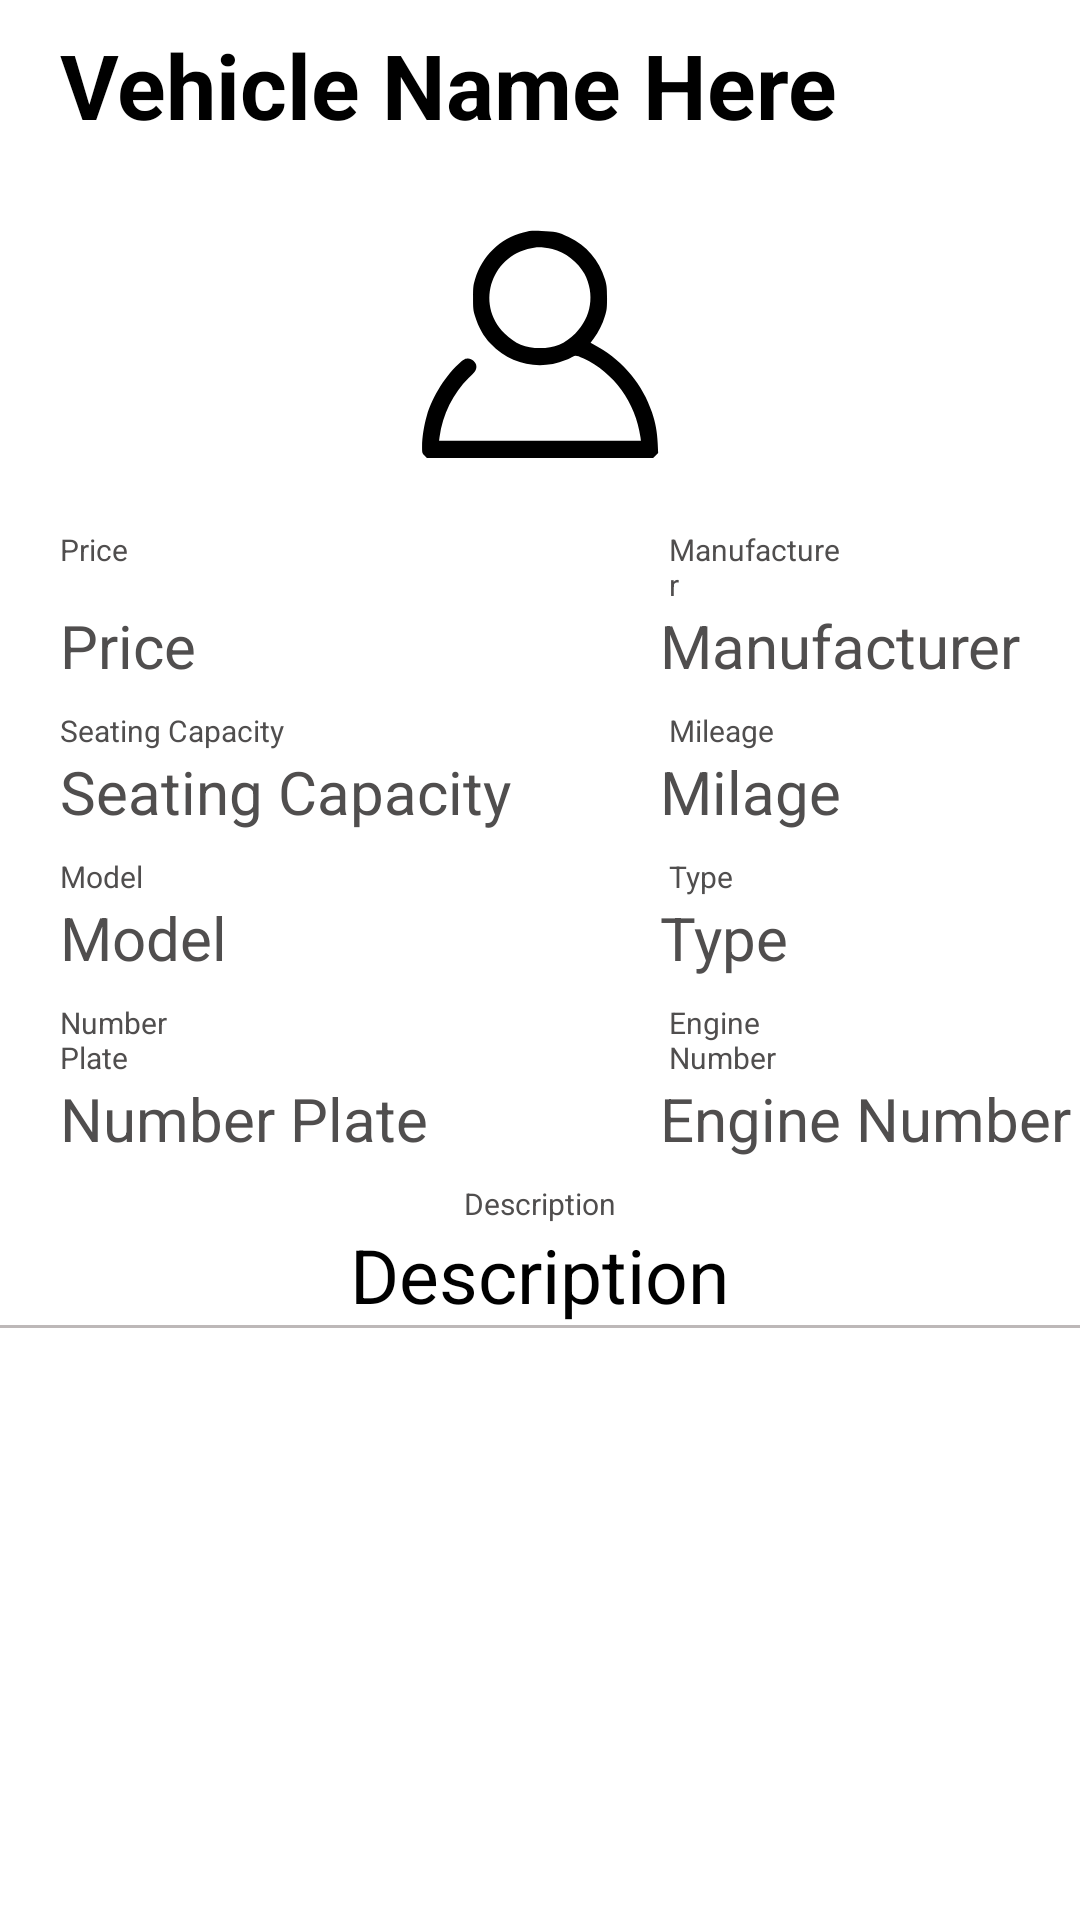

Named icons in this screenshot (1080*1920) and their bounding boxes, box(x1, y1, x2, y2):
profile: box(422, 230, 659, 458)
